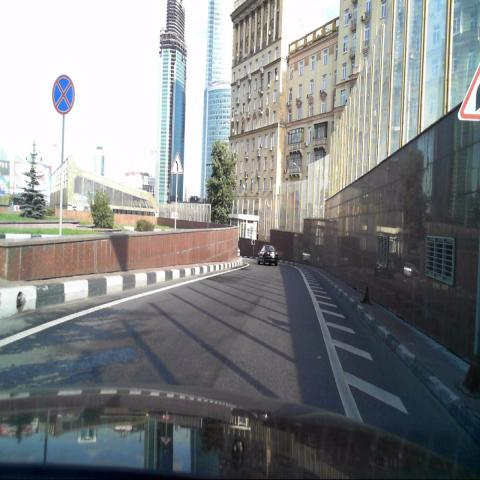1_11_1: (170, 152, 184, 175)
